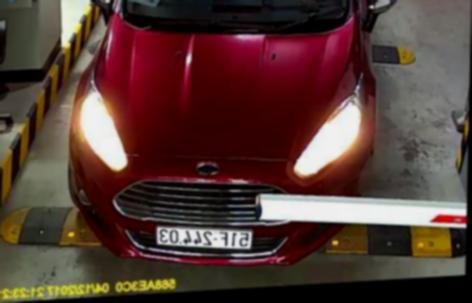License_Plate: (153, 224, 254, 254)
